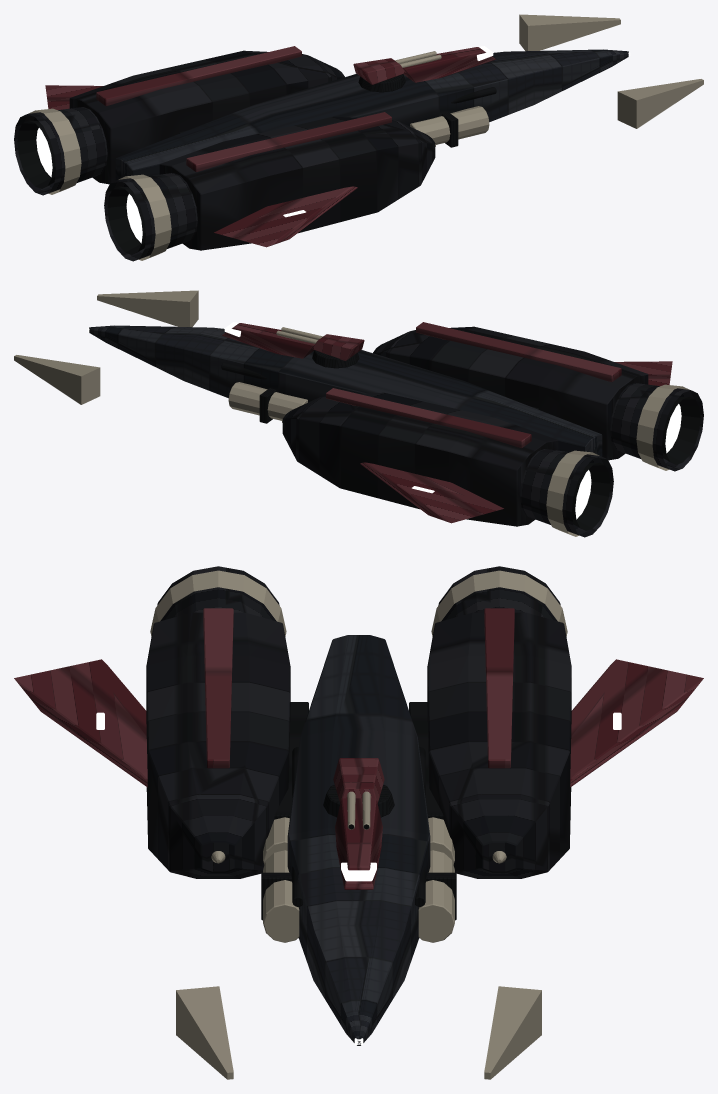
Rendered from corvette.glb.
The picture shows the model from 3 angles, top to bottom: view 1: azimuth 30°, elevation 25°; view 2: azimuth 150°, elevation 25°; view 3: azimuth 270°, elevation 25°; orthographic projection. The views are drawn at different scales.
Visible parts, largest first — view 1: corvette; view 2: corvette; view 3: corvette.
Part boxes in pixels (<box>): corvette: <box>14,14,703,261</box>; corvette: <box>14,290,703,537</box>; corvette: <box>14,566,703,1079</box>.
Bounding box in the file's own units: 20 × 2.98 × 13.17.
1 material, 1 textured.
